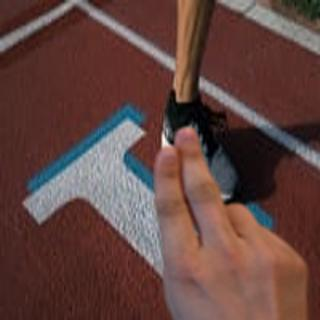DHAVE: (142, 123, 313, 320)
